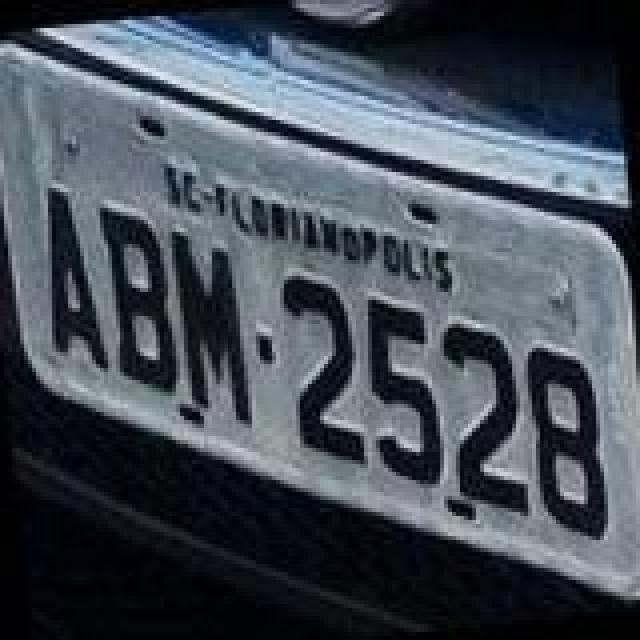2: (438, 314, 538, 526), (278, 264, 370, 472)
5: (358, 288, 450, 496)
8: (520, 334, 616, 546)
A: (34, 182, 110, 378)
B: (96, 194, 184, 398)
M: (164, 222, 252, 434)
